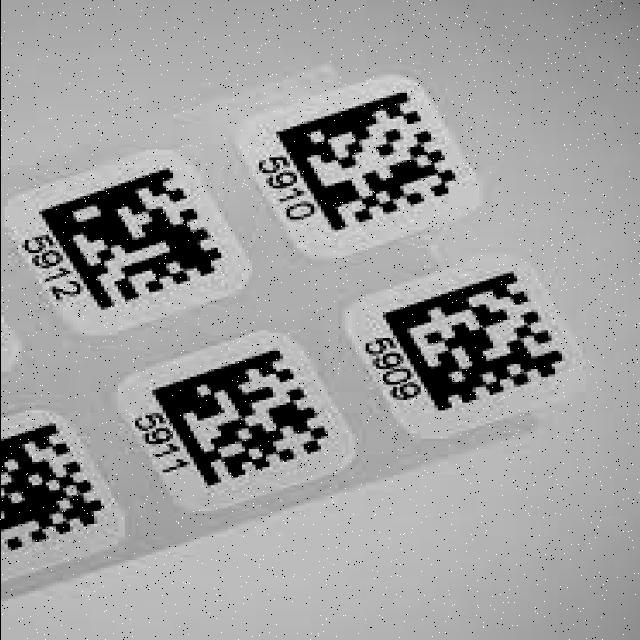datamatrix: (365, 258, 595, 439), (14, 155, 244, 322), (138, 333, 348, 508), (272, 70, 478, 240), (0, 405, 114, 570)
